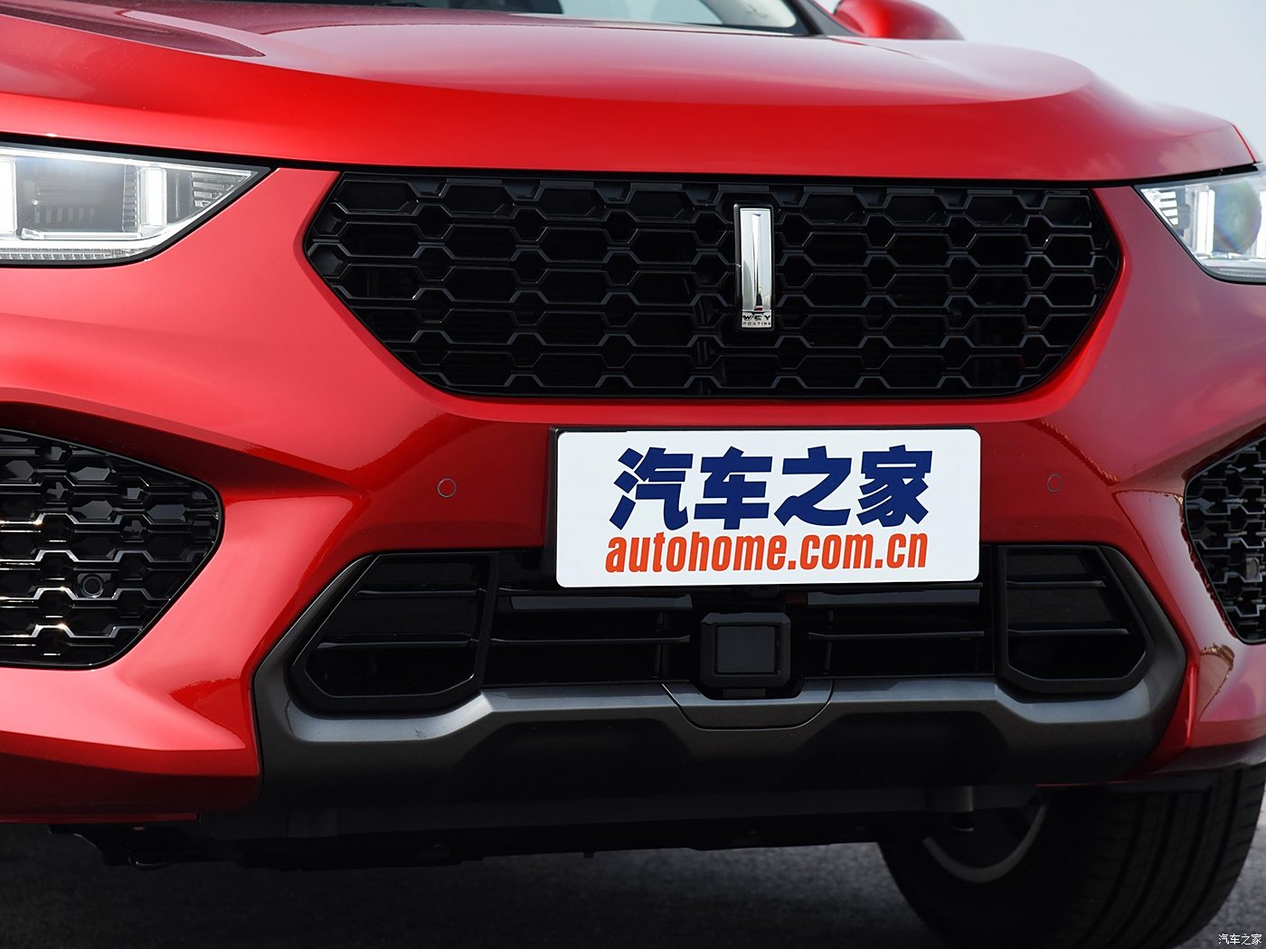WEY: (741, 209, 771, 327)
